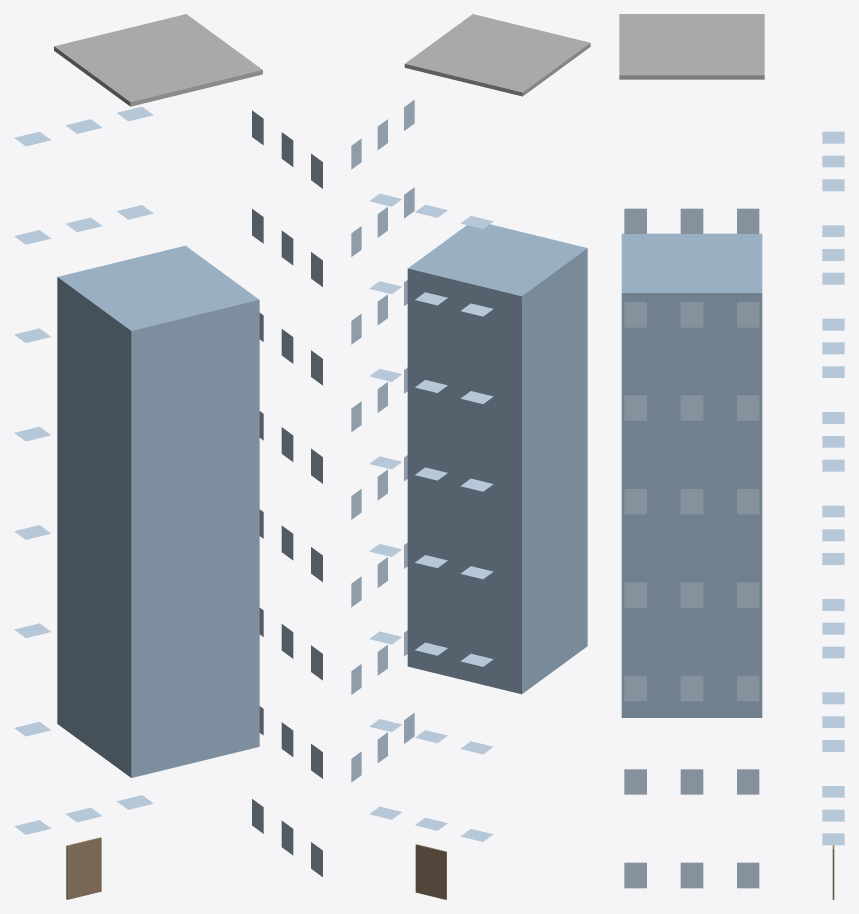
Rendered from mesh_building_modern.fbx.
The picture shows the model from 3 angles, left to right: view 1: azimuth 30°, elevation 25°; view 2: azimuth 150°, elevation 25°; view 3: azimuth 270°, elevation 25°; orthographic projection. The views are drawn at different scales.
Parts seen in each view (by area): view 1: mesh_building_modern; view 2: mesh_building_modern; view 3: mesh_building_modern.
Boxes of the visible parts, x1=… form: mesh_building_modern: x1=14, y1=14, x2=322, y2=899; mesh_building_modern: x1=351, y1=14, x2=590, y2=899; mesh_building_modern: x1=619, y1=14, x2=844, y2=899.
Bounding box in the file's own units: 2.28 × 9.97 × 2.4.
